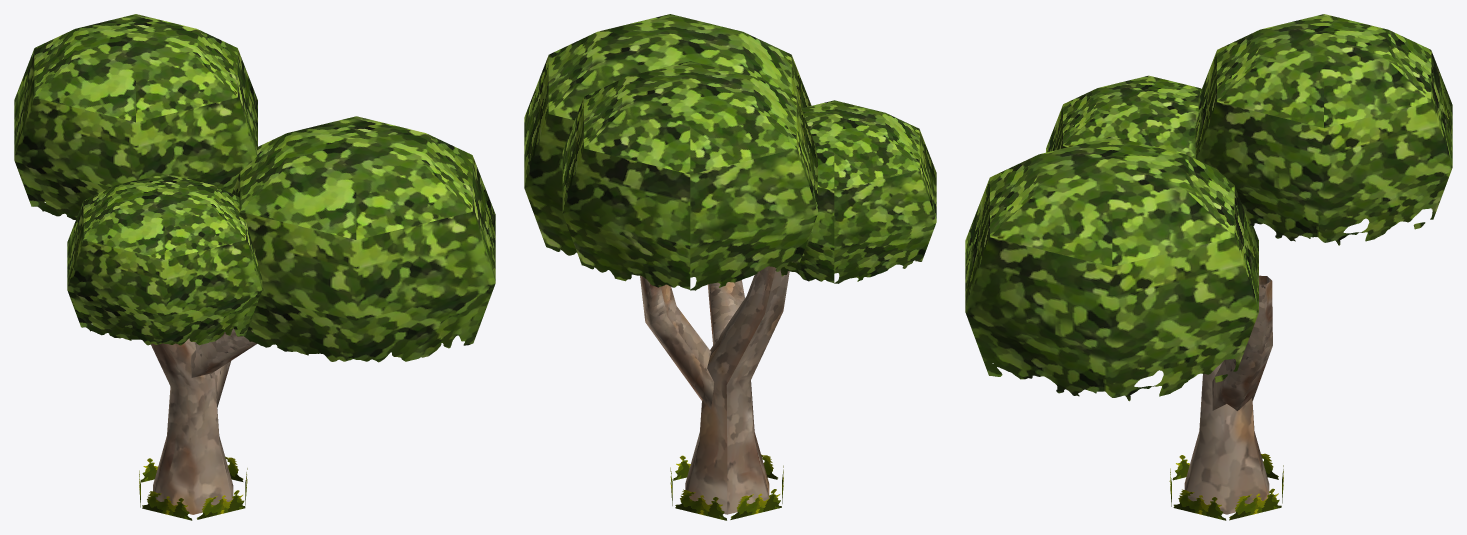
Rendered from arbol_04.FBX.
The picture shows the model from 3 angles, left to right: view 1: azimuth 30°, elevation 25°; view 2: azimuth 150°, elevation 25°; view 3: azimuth 270°, elevation 25°; orthographic projection. The views are drawn at different scales.
Visible parts, largest first — view 1: Arbol_002; view 2: Arbol_002; view 3: Arbol_002.
Part boxes in pixels (<box>): Arbol_002: <box>14,14,495,520</box>; Arbol_002: <box>524,14,936,520</box>; Arbol_002: <box>965,14,1452,520</box>.
Bounding box in the file's own units: 3.32 × 3.23 × 3.32.
1 material, 1 textured.
